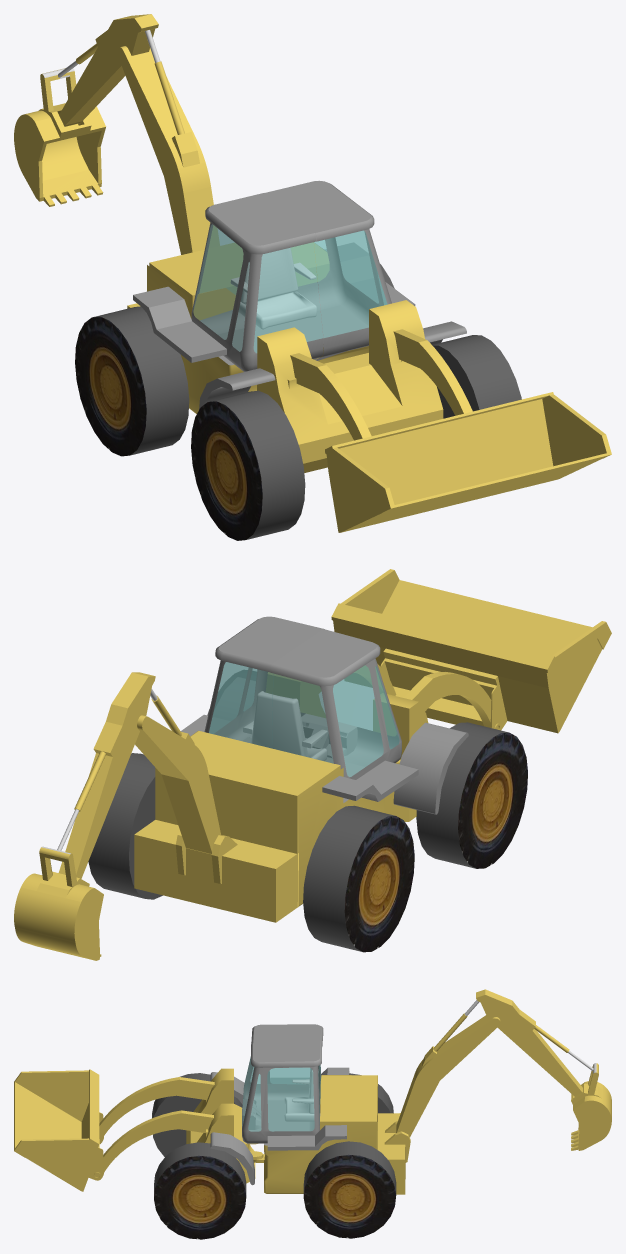
Rendered from backhoe.glb.
3 renders of one model, top to bottom at view 1: azimuth 30°, elevation 25°; view 2: azimuth 150°, elevation 25°; view 3: azimuth 270°, elevation 25°, orthographic. The views are drawn at different scales.
Parts seen in each view (by area): view 1: Geom3D_11, Geom3D_26, Geom3D_21, Geom3D_28, Geom3D_22, Geom3D_13, Geom3D_16, Geom3D_19, Geom3D_27, Geom3D_25, Geom3D_7, Geom3D_9 (+1 smaller); view 2: Geom3D_11, Geom3D_27, Geom3D_21, Geom3D_26, Geom3D_22, Geom3D_16, Geom3D_28, Geom3D_19, Geom3D_23, Geom3D_13, Geom3D_25, Geom3D_7; view 3: Geom3D_22, Geom3D_11, Geom3D_26, Geom3D_27, Geom3D_16, Geom3D_21, Geom3D_19, Geom3D_28, Geom3D_13, Geom3D_7, Geom3D_9, Geom3D_23 (+1 smaller).
Boxes of the visible parts, left/top/right/bottom form: Geom3D_11: left=325, top=392, right=611, bottom=532; Geom3D_26: left=133, top=180, right=415, bottom=371; Geom3D_21: left=93, top=264, right=521, bottom=539; Geom3D_28: left=193, top=224, right=387, bottom=352; Geom3D_22: left=75, top=316, right=262, bottom=540; Geom3D_13: left=257, top=300, right=443, bottom=472; Geom3D_16: left=14, top=14, right=158, bottom=206; Geom3D_19: left=117, top=47, right=219, bottom=254; Geom3D_27: left=127, top=242, right=368, bottom=413; Geom3D_25: left=230, top=248, right=316, bottom=329; Geom3D_7: left=290, top=353, right=371, bottom=440; Geom3D_9: left=393, top=329, right=472, bottom=415; Geom3D_11: left=331, top=569, right=611, bottom=733; Geom3D_27: left=134, top=730, right=384, bottom=922; Geom3D_21: left=88, top=670, right=508, bottom=951; Geom3D_26: left=180, top=616, right=418, bottom=802; Geom3D_22: left=344, top=732, right=527, bottom=952; Geom3D_16: left=14, top=672, right=155, bottom=960; Geom3D_28: left=209, top=662, right=399, bottom=776; Geom3D_19: left=135, top=695, right=237, bottom=883; Geom3D_23: left=213, top=677, right=468, bottom=814; Geom3D_13: left=266, top=672, right=428, bottom=821; Geom3D_25: left=243, top=691, right=327, bottom=760; Geom3D_7: left=403, top=672, right=498, bottom=729; Geom3D_22: left=154, top=1154, right=396, bottom=1239; Geom3D_11: left=14, top=1069, right=103, bottom=1191; Geom3D_26: left=242, top=1024, right=349, bottom=1150; Geom3D_27: left=264, top=1075, right=405, bottom=1194; Geom3D_16: left=476, top=989, right=611, bottom=1150; Geom3D_21: left=152, top=1073, right=396, bottom=1196; Geom3D_19: left=384, top=1013, right=500, bottom=1162; Geom3D_28: left=242, top=1057, right=321, bottom=1131; Geom3D_13: left=186, top=1068, right=264, bottom=1183; Geom3D_7: left=99, top=1077, right=214, bottom=1142; Geom3D_9: left=94, top=1110, right=213, bottom=1177; Geom3D_23: left=210, top=1072, right=254, bottom=1185.
Bounding box in the file's own units: 3.78 × 4.42 × 11.48.
Materials: 6 (1 with a texture image).
